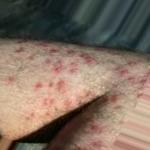Ants: (77, 47, 98, 68), (85, 117, 104, 134), (52, 77, 69, 94), (50, 59, 66, 75), (47, 47, 62, 60), (42, 56, 55, 68), (4, 73, 17, 85), (116, 64, 128, 76), (63, 46, 77, 56), (104, 94, 118, 104), (135, 90, 147, 101), (139, 75, 149, 88), (42, 96, 56, 105), (90, 141, 104, 149), (33, 81, 43, 92), (67, 61, 77, 72), (14, 46, 24, 55), (128, 61, 138, 67), (48, 81, 53, 90), (128, 76, 134, 82)
